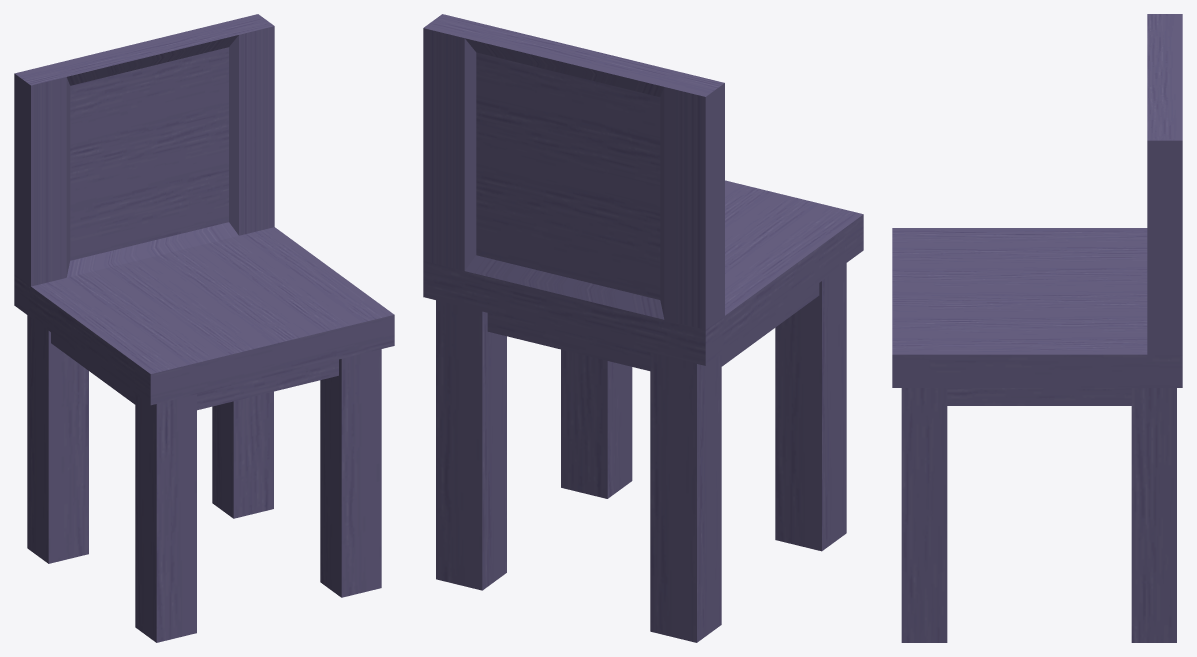
File: Little_Chair_C.FBX
3 renders of one model, left to right at view 1: azimuth 30°, elevation 25°; view 2: azimuth 150°, elevation 25°; view 3: azimuth 270°, elevation 25°, orthographic. The views are drawn at different scales.
Visible parts, largest first — view 1: Little_Chair; view 2: Little_Chair; view 3: Little_Chair.
Part boxes in pixels (x1,y1,x2,y2): Little_Chair: (14,14,394,642); Little_Chair: (423,14,863,642); Little_Chair: (892,14,1182,642).
Size of the model in its own units: 58.74 by 109 by 56.91.
